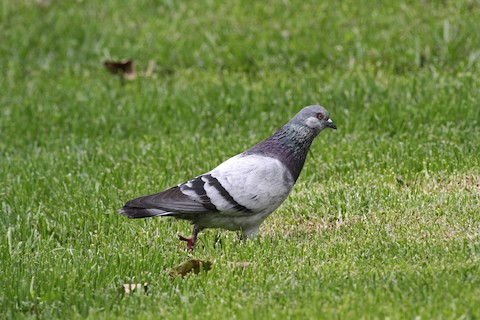pigeon: (122, 100, 339, 280)
